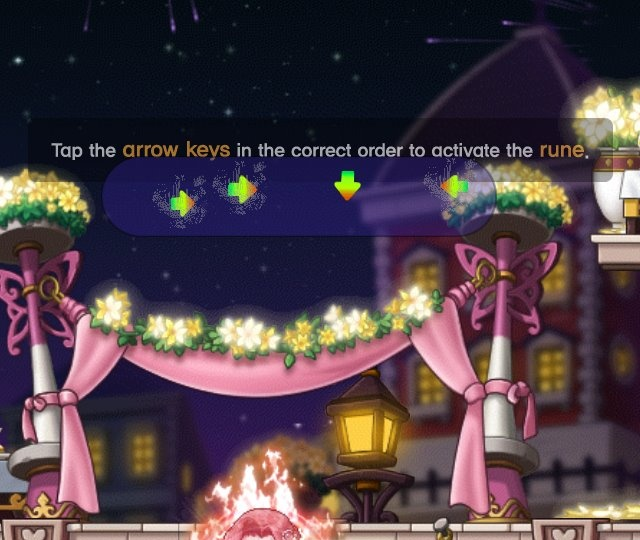rune_box: (96, 148, 507, 247)
